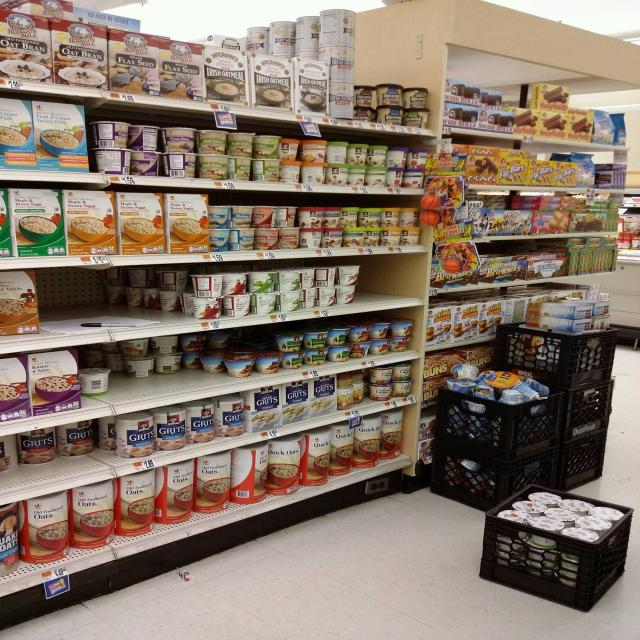void: (84, 364, 229, 407), (1, 451, 121, 490), (38, 274, 98, 315), (361, 262, 400, 298)
